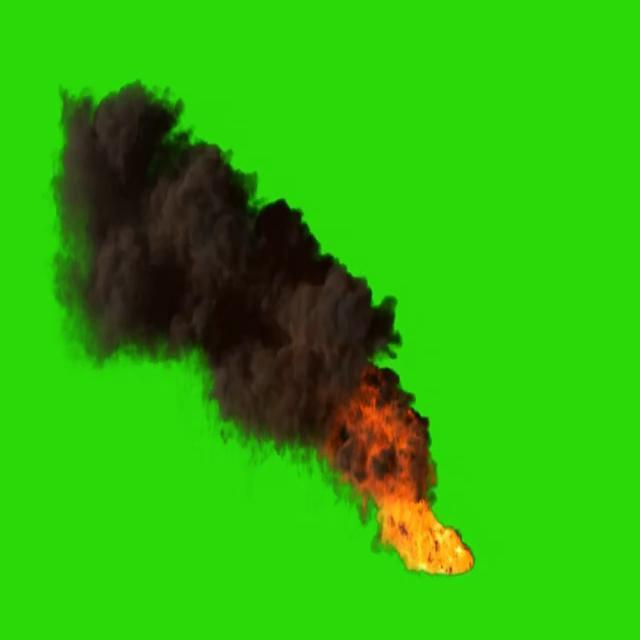Fire: (377, 498, 472, 569)
Smoke: (55, 84, 352, 458)
